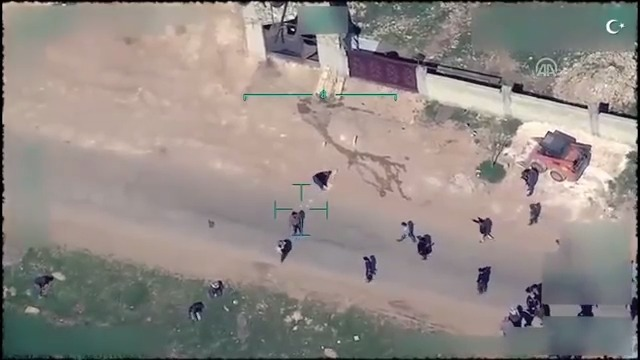insan: (309, 163, 334, 193), (395, 219, 417, 246), (359, 252, 376, 282)
